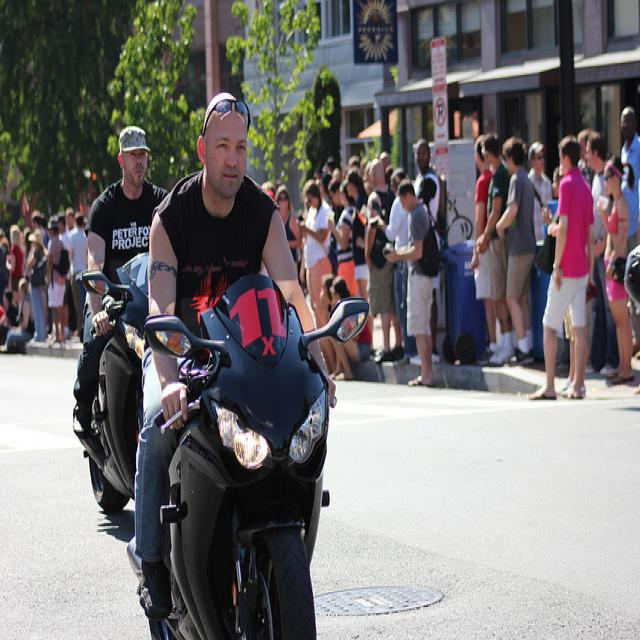motor: (147, 273, 372, 633), (79, 250, 150, 514)
